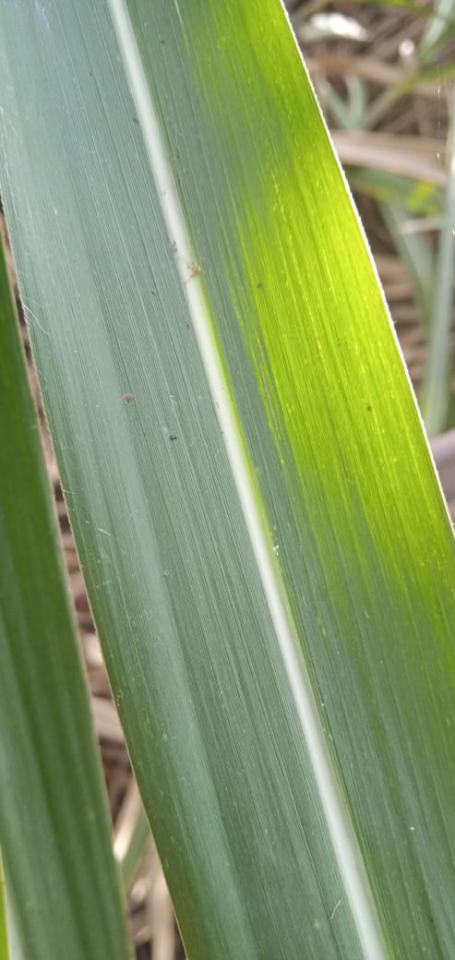Healthy: (0, 0, 454, 959), (0, 239, 130, 959)
